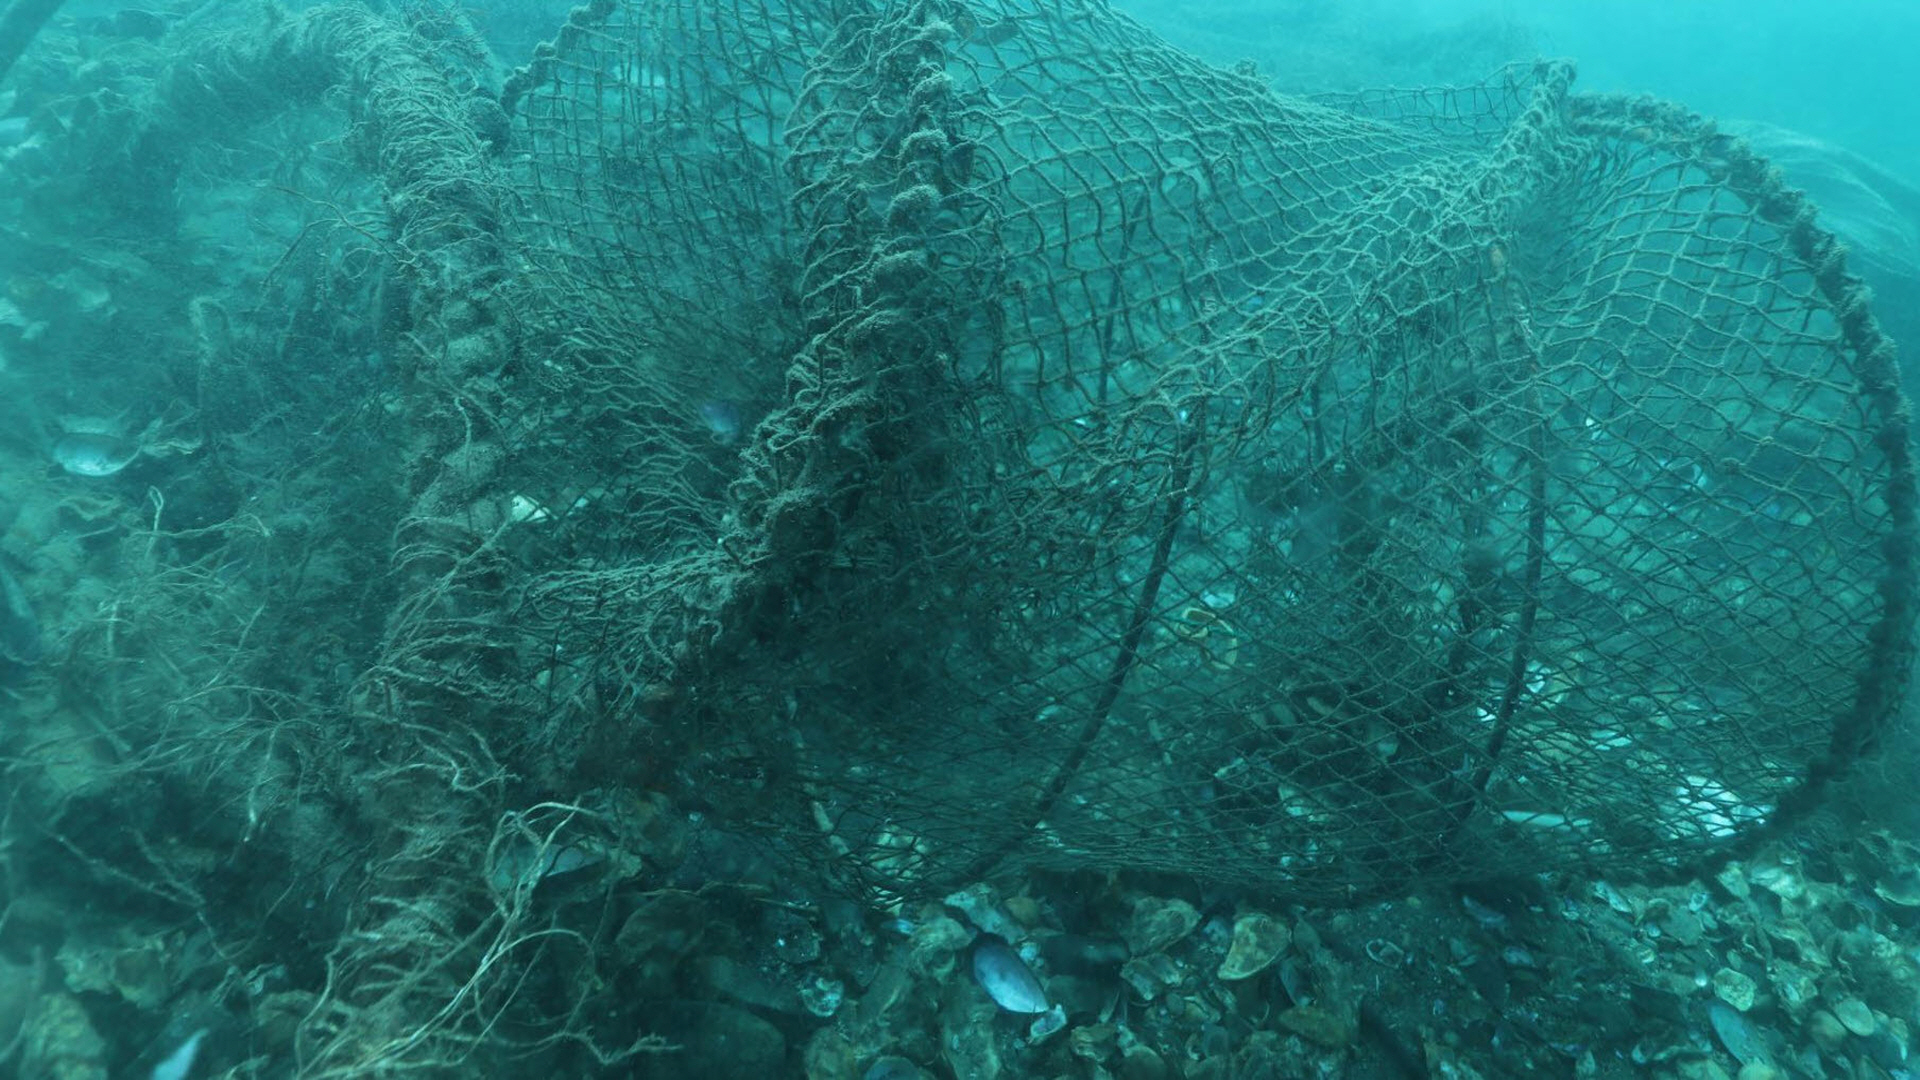spring fish trap: (495, 0, 1920, 909)
